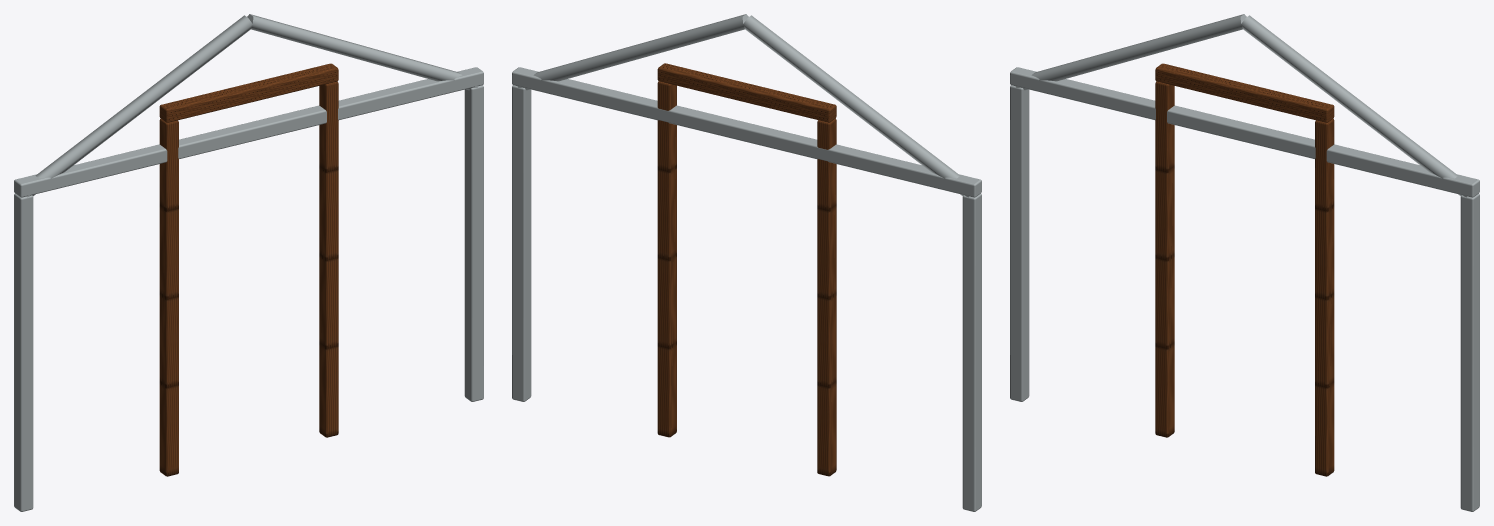
Rendered from survival-greenhouse-and-irrigation-greenhouse-end-fram-aff5a8f1__21302.glb.
3 renders of one model, left to right at view 1: azimuth 30°, elevation 25°; view 2: azimuth 150°, elevation 25°; view 3: azimuth 330°, elevation 25°, orthographic.
Visible parts, largest first — view 1: greenhouse-end-frame; view 2: greenhouse-end-frame; view 3: greenhouse-end-frame.
Boxes of the visible parts, bbox=[...] form: greenhouse-end-frame: bbox=[14, 14, 483, 511]; greenhouse-end-frame: bbox=[512, 14, 981, 511]; greenhouse-end-frame: bbox=[1010, 14, 1479, 511].
Size of the model in its own units: 2.47 by 2.23 by 0.0712.
Materials: 2 (1 with a texture image).
